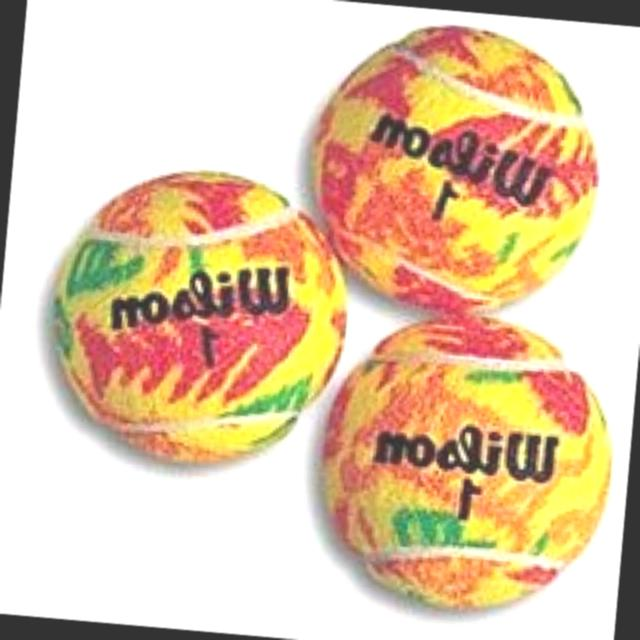Tennis Ball: (47, 169, 350, 469), (319, 314, 613, 616), (308, 24, 601, 315)
